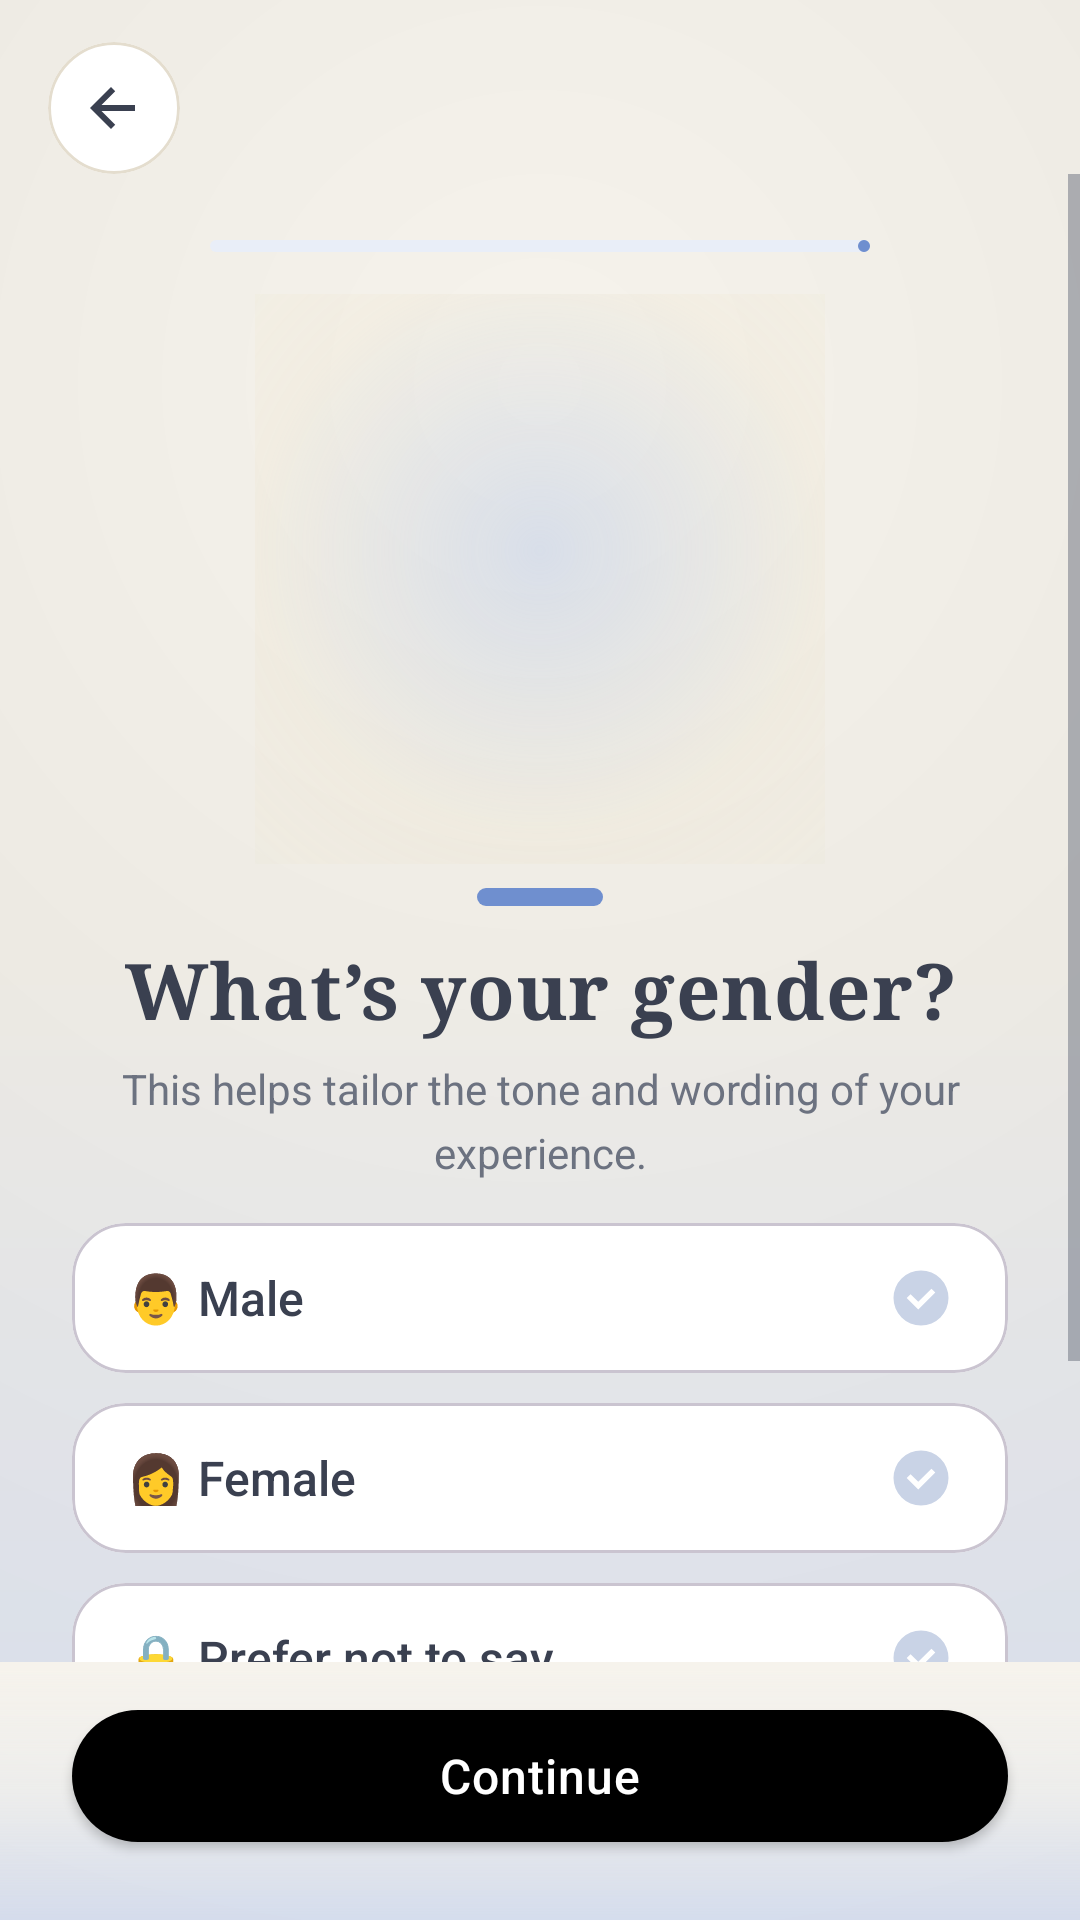

Named icons in this screenshot (1080x1920) and their bounding boxes, (x1, y1, x2, y2):
Back: (49, 42, 179, 174)
